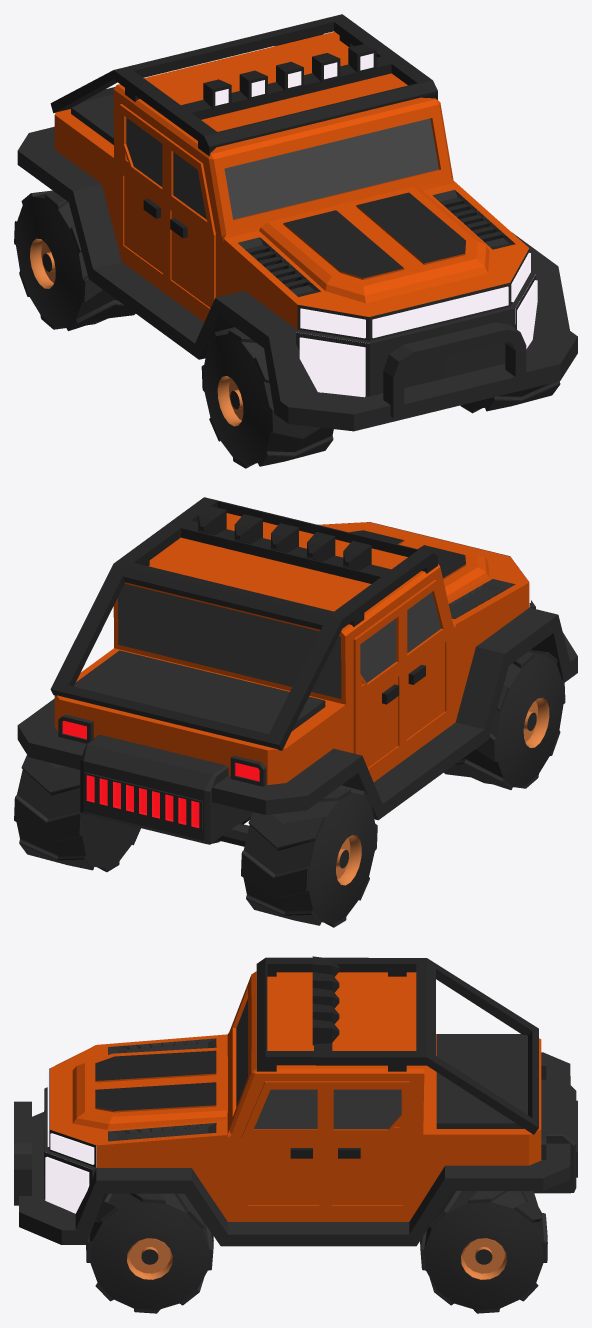
Rendered from jeep.glb.
3 views of the same model, one above another, from view 1: azimuth 30°, elevation 25°; view 2: azimuth 150°, elevation 25°; view 3: azimuth 270°, elevation 25° (orthographic). The views are drawn at different scales.
Parts seen in each view (by area): view 1: Cube.003, Plane, Cylinder, Cube.004, Plane.002, Cube.005, Cube.008, Cube; view 2: Cube.003, Cylinder, Plane.002, Plane, Cube.006, Cube.005, Cube, Cube.004, Cube.007, Cube.002; view 3: Cube.003, Cylinder, Plane, Cube.005, Plane.002, Cube.004, Cube.008, Cube.006, Cube.
Boxes of the visible parts, x1,y1,x2,y2 form: Cube.003: [54, 32, 535, 396]; Plane: [17, 126, 577, 431]; Cylinder: [14, 190, 560, 468]; Cube.004: [259, 186, 489, 303]; Plane.002: [50, 14, 437, 155]; Cube.005: [119, 104, 215, 313]; Cube.008: [296, 248, 537, 397]; Cube: [203, 44, 376, 109]; Cube.003: [54, 513, 535, 784]; Cylinder: [14, 650, 565, 927]; Plane.002: [50, 497, 437, 750]; Plane: [17, 607, 577, 820]; Cube.006: [80, 735, 246, 844]; Cube.005: [353, 580, 449, 773]; Cube: [198, 505, 371, 570]; Cube.004: [341, 527, 489, 600]; Cube.007: [58, 714, 266, 786]; Cube.002: [211, 810, 252, 846]; Cube.003: [44, 971, 541, 1221]; Cylinder: [86, 1191, 547, 1313]; Plane: [14, 1052, 570, 1246]; Cube.005: [241, 1081, 409, 1211]; Plane.002: [256, 957, 538, 1134]; Cube.004: [72, 1047, 226, 1129]; Cube.008: [44, 1045, 96, 1213]; Cube.006: [533, 1079, 577, 1193]; Cube: [312, 956, 339, 1045].
Size of the model in its own units: 2.74 by 2.5 by 4.92.
